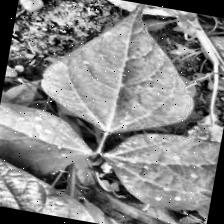Bean Rust: (93, 122, 220, 216), (0, 93, 104, 182)
